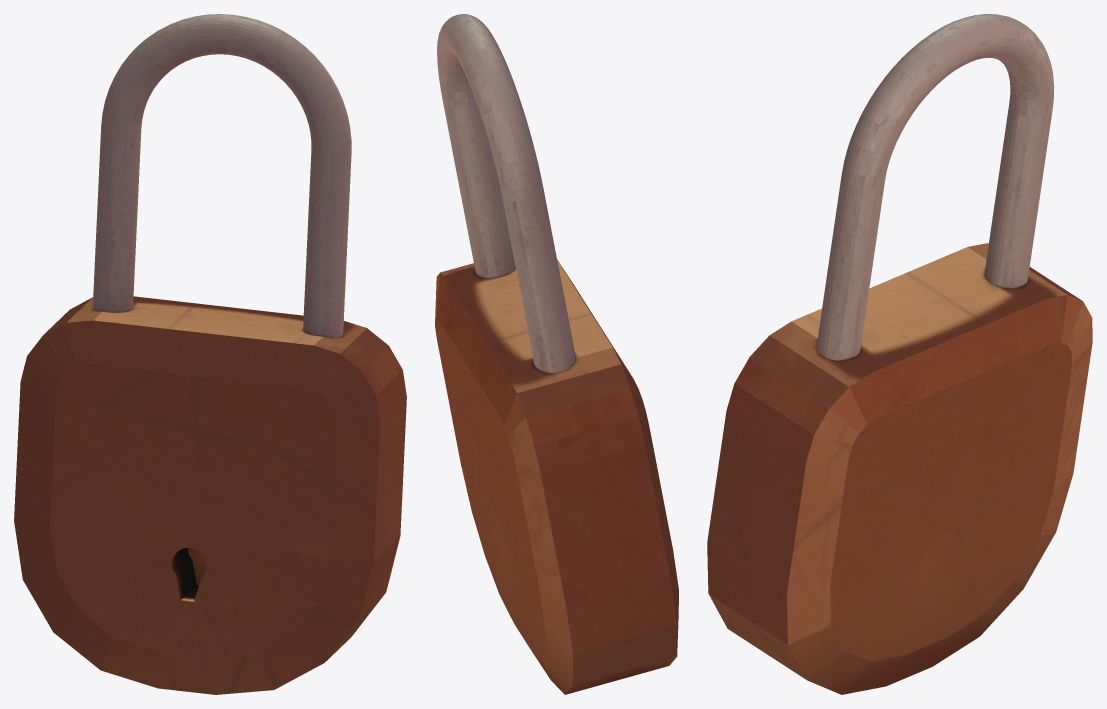
Rendered from lock.glb.
3 views of the same model, side by side, from view 1: azimuth 30°, elevation 25°; view 2: azimuth 150°, elevation 25°; view 3: azimuth 270°, elevation 25° (orthographic). The views are drawn at different scales.
Visible parts, largest first — view 1: Lock_Baked, ShackleBody.001_Baked; view 2: Lock_Baked, ShackleBody.001_Baked; view 3: Lock_Baked, ShackleBody.001_Baked.
Part boxes in pixels (left/top/right/bottom): Lock_Baked: left=14, top=296, right=406, bottom=694; ShackleBody.001_Baked: left=92, top=14, right=351, bottom=337; Lock_Baked: left=435, top=259, right=678, bottom=694; ShackleBody.001_Baked: left=437, top=14, right=575, bottom=373; Lock_Baked: left=707, top=243, right=1092, bottom=694; ShackleBody.001_Baked: left=816, top=14, right=1054, bottom=360.
Size of the model in its own units: 0.7662 by 1.48 by 0.7662.
1 material, 1 textured.
